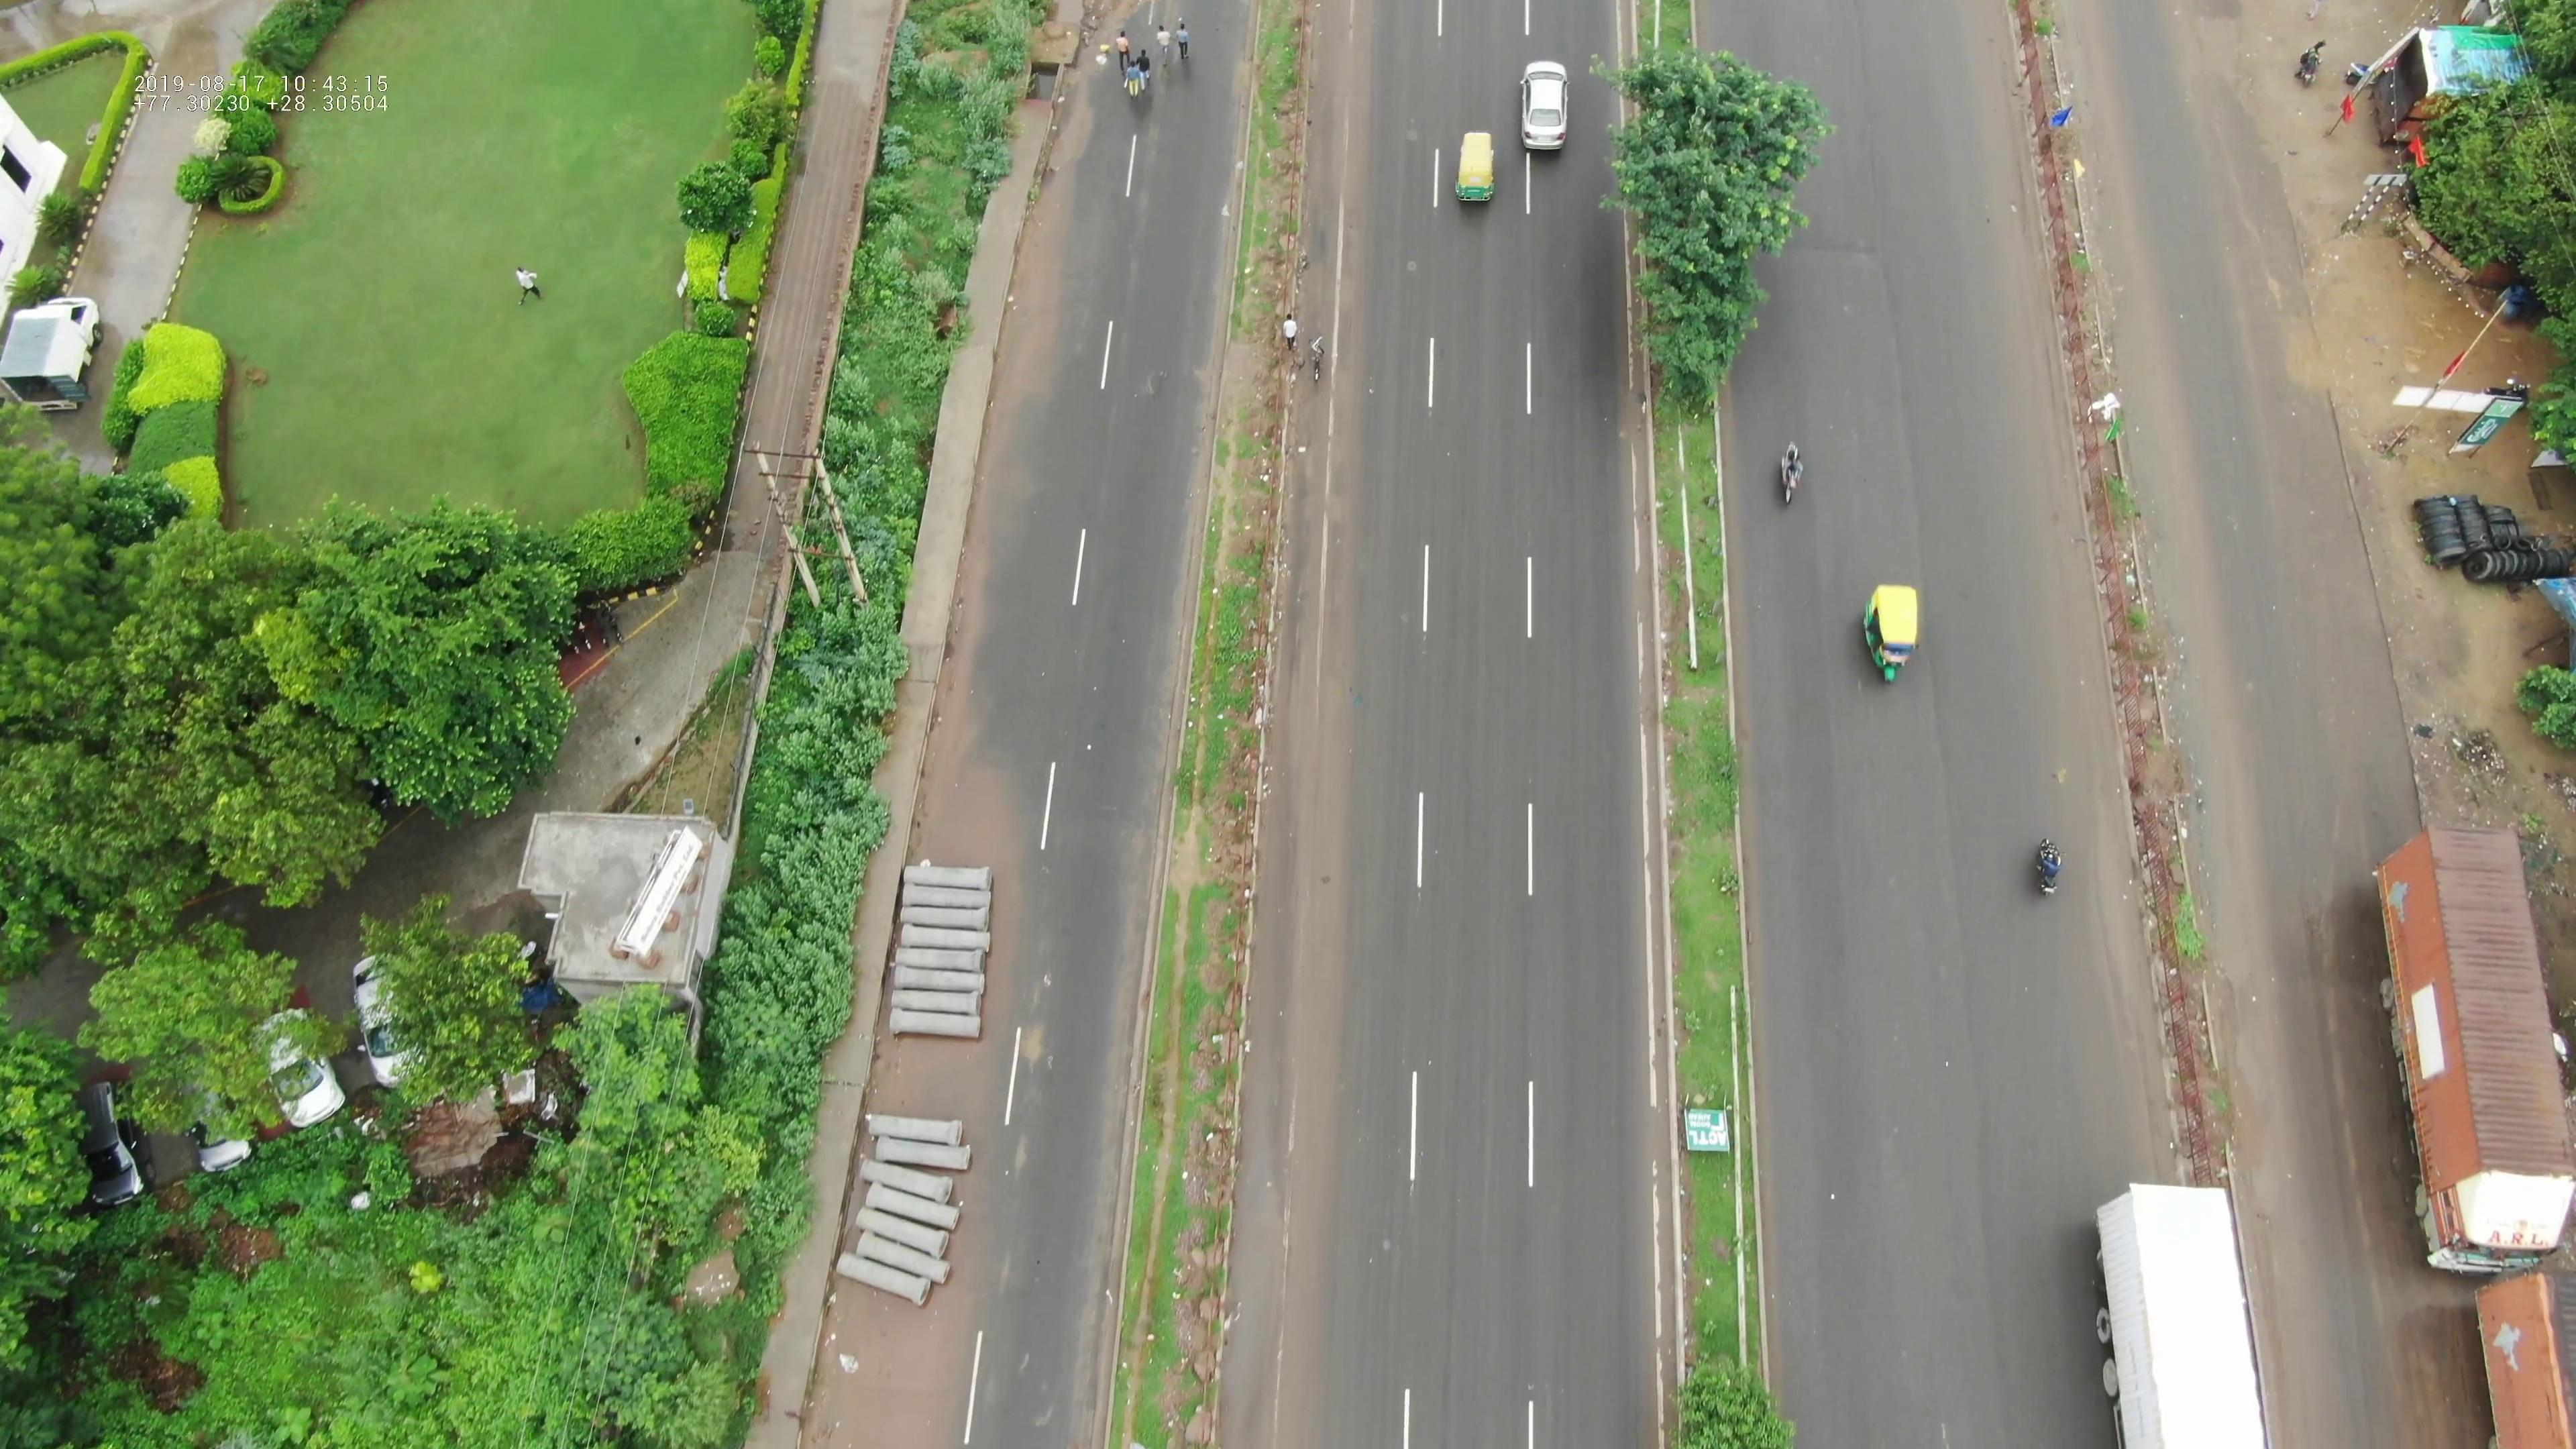Muddy_road: (801, 1292, 980, 1444)
